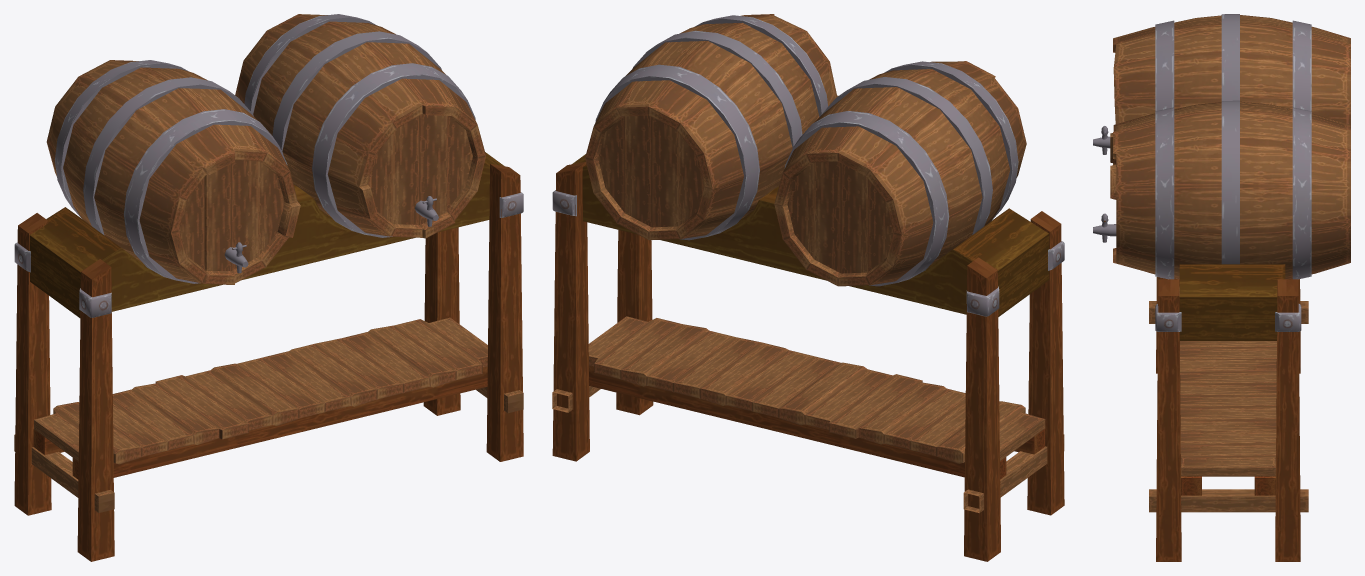
File: Barrel_Holder.gltf
3 views of the same model, side by side, from view 1: azimuth 30°, elevation 25°; view 2: azimuth 150°, elevation 25°; view 3: azimuth 270°, elevation 25° (orthographic). The views are drawn at different scales.
Parts seen in each view (by area): view 1: Barrel_Holder; view 2: Barrel_Holder; view 3: Barrel_Holder.
Part boxes in pixels (left/top/right/bottom): Barrel_Holder: left=14, top=14, right=523, bottom=561; Barrel_Holder: left=552, top=14, right=1064, bottom=561; Barrel_Holder: left=1093, top=14, right=1350, bottom=561.
Bounding box in the file's own units: 1.36 × 1.26 × 0.741.
Materials: 2 (2 with a texture image).
